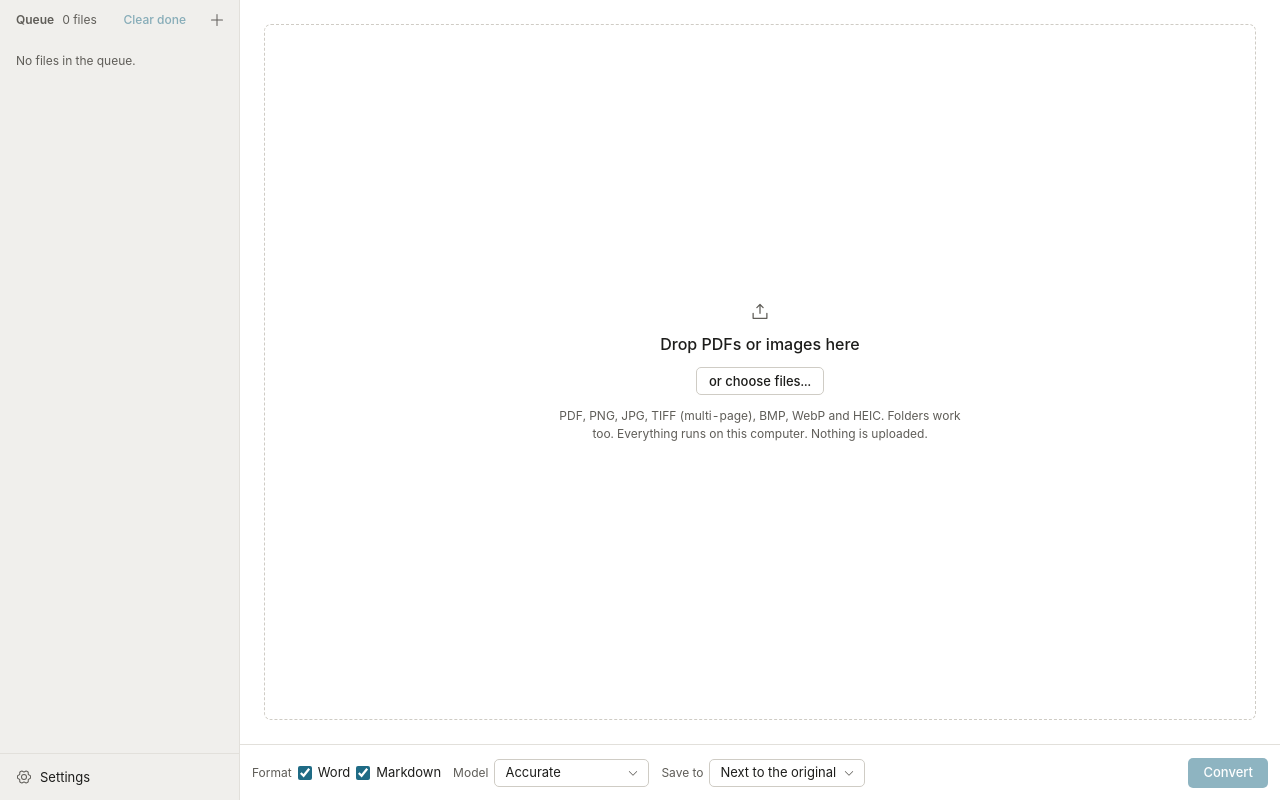
it: App shell › reports a file picker that cannot open instead of failing silently
Click the button "or choose files...": (760, 381) [696,367,824,395]
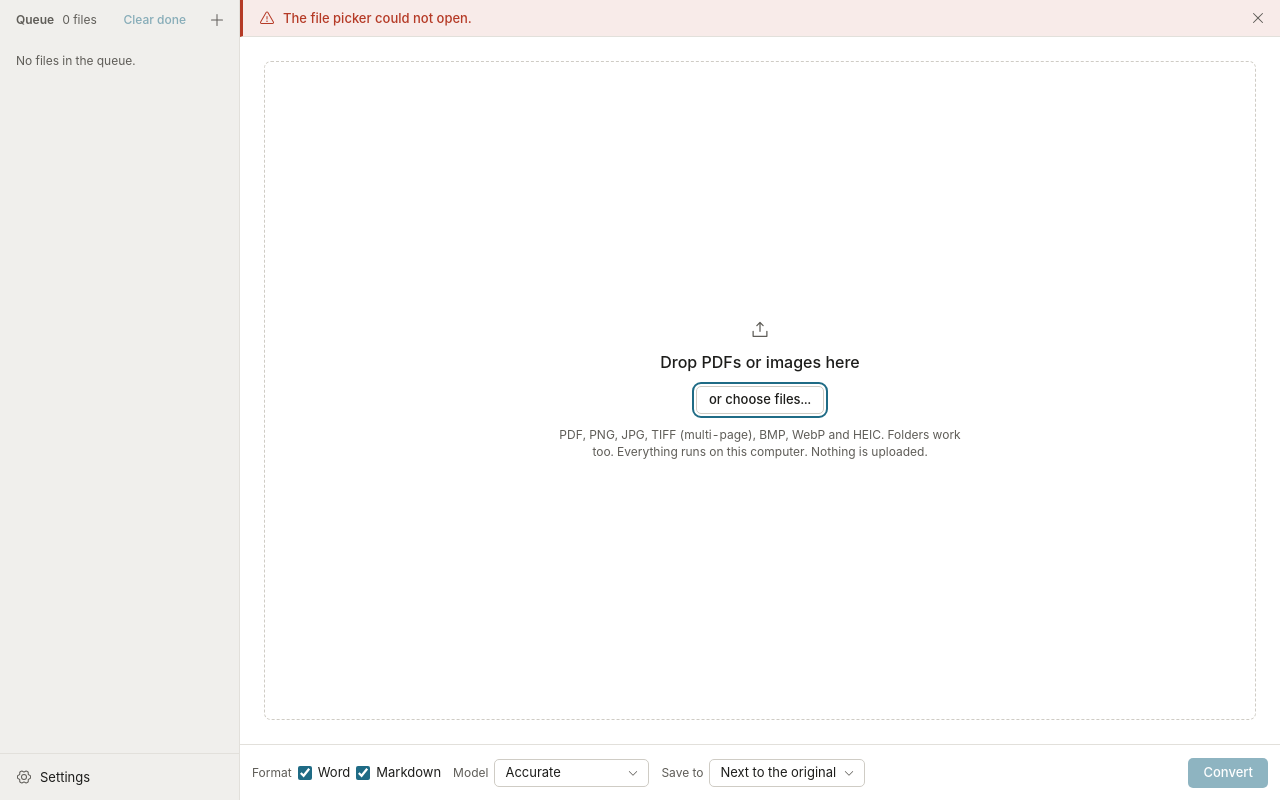
Now the message reads "The file picker could not open.", box [283,10,471,26]
